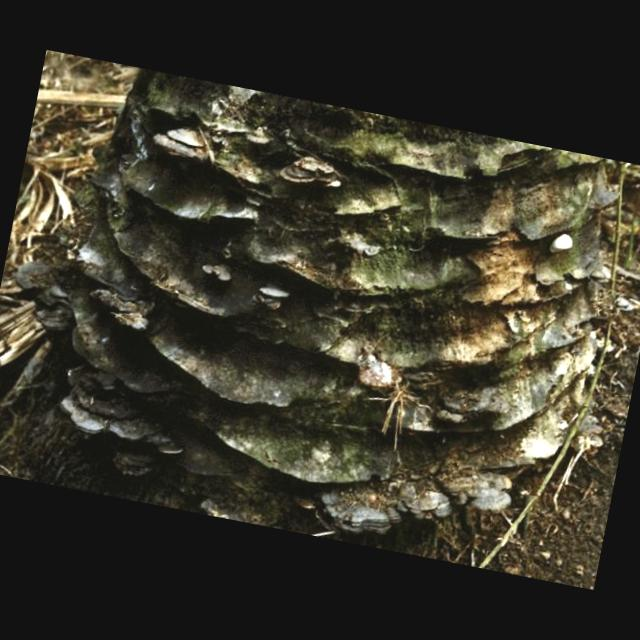ganoderma: (54, 363, 197, 461), (313, 478, 408, 545), (7, 259, 83, 337), (434, 463, 517, 520), (382, 473, 460, 530), (83, 282, 159, 335), (149, 123, 222, 167), (351, 345, 408, 396), (278, 152, 346, 193)
primordium: (548, 231, 577, 258)
